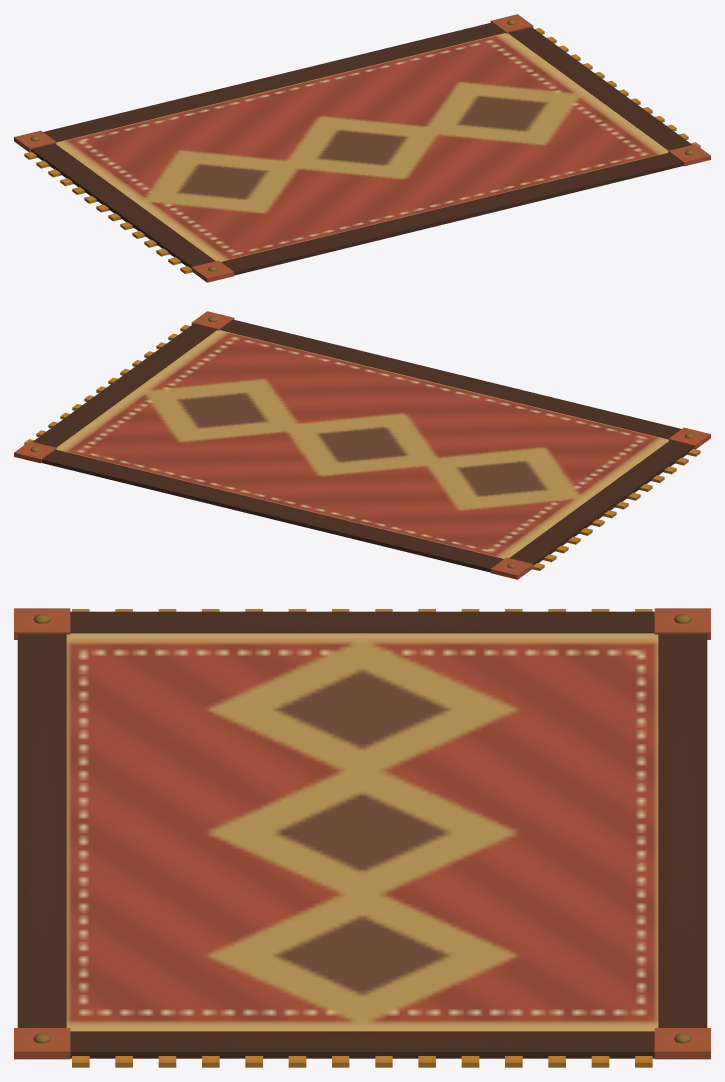
Rendered from rug_lizard_weave.glb.
3 views of the same model, one above another, from view 1: azimuth 30°, elevation 25°; view 2: azimuth 150°, elevation 25°; view 3: azimuth 270°, elevation 25° (orthographic). The views are drawn at different scales.
Visible parts, largest first — view 1: rug_lizard_weave; view 2: rug_lizard_weave; view 3: rug_lizard_weave.
Boxes of the visible parts, <box> form: rug_lizard_weave: <box>14,14,710,282</box>; rug_lizard_weave: <box>14,311,710,579</box>; rug_lizard_weave: <box>14,608,710,1067</box>.
Size of the model in its own units: 3.05 by 0.055 by 1.98.
1 material, 1 textured.
